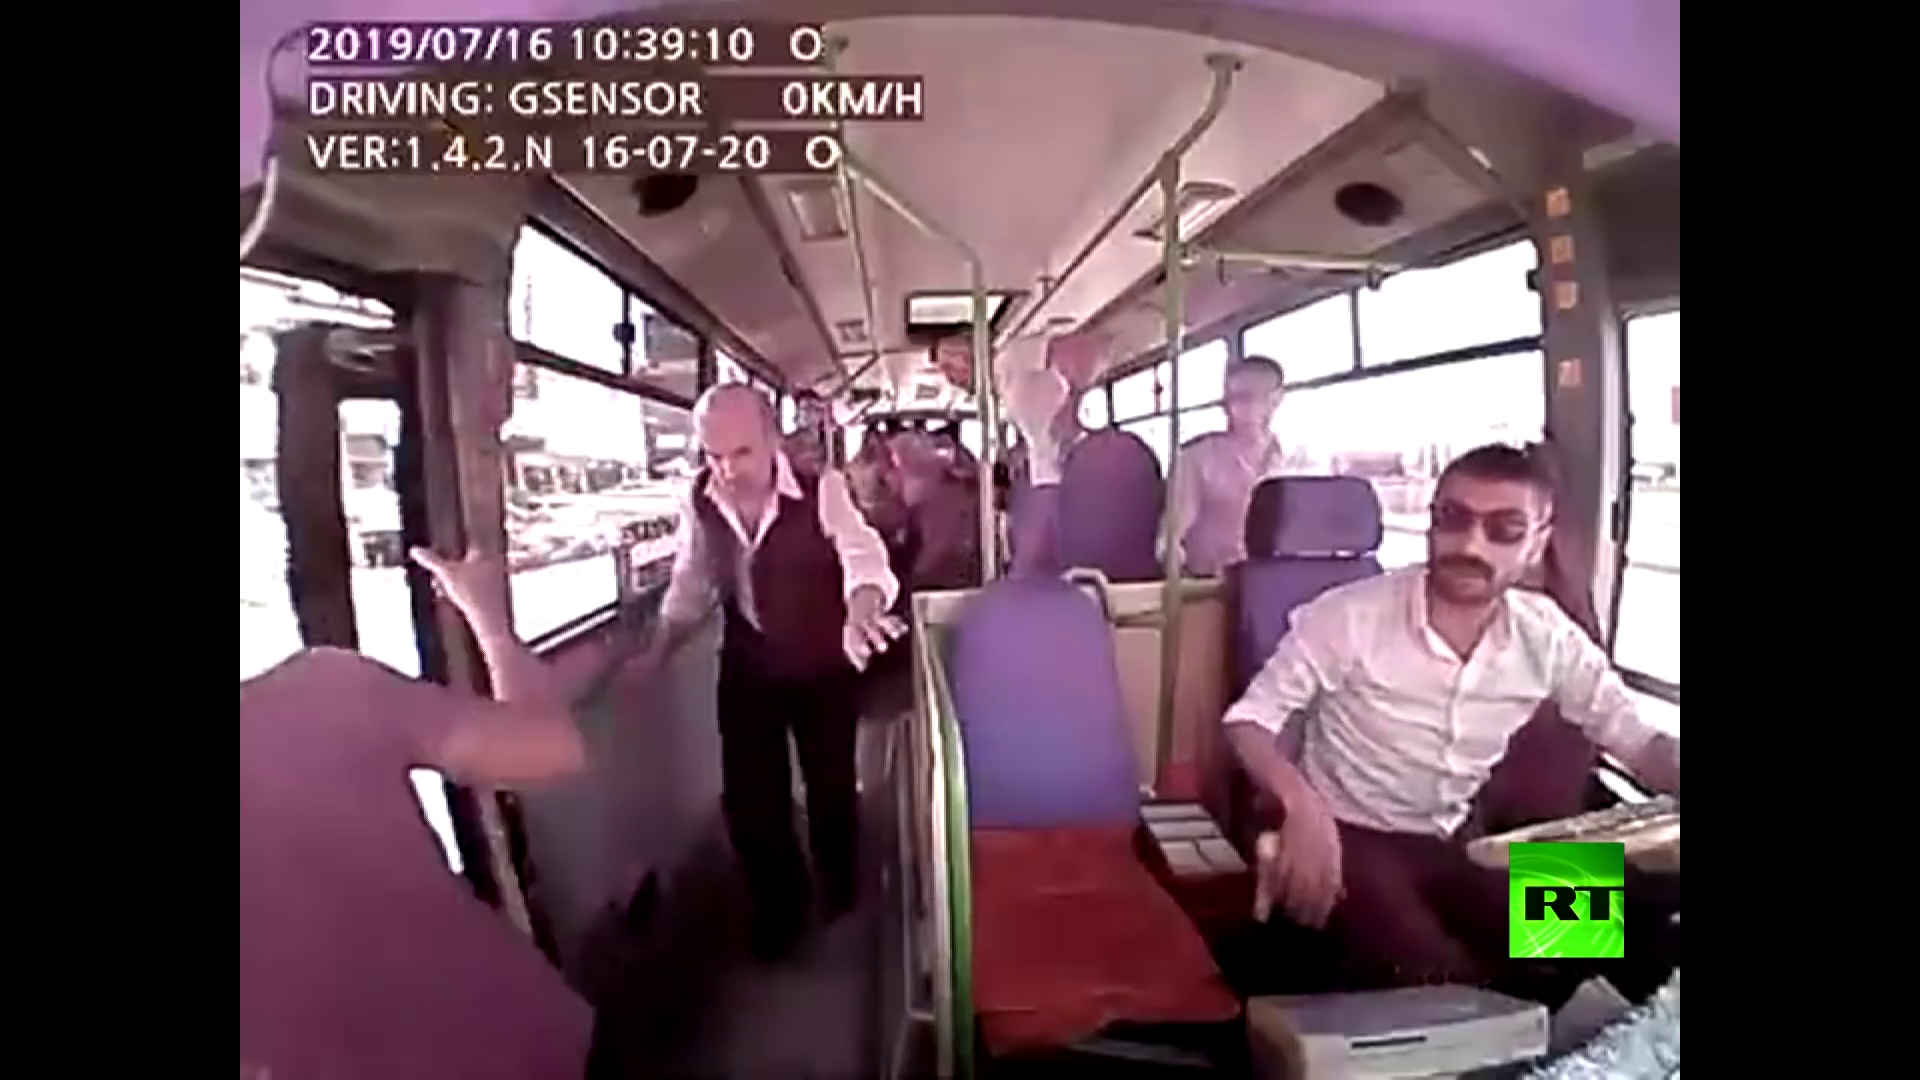face: (1411, 481, 1532, 589), (699, 419, 778, 500), (1223, 369, 1273, 437)
